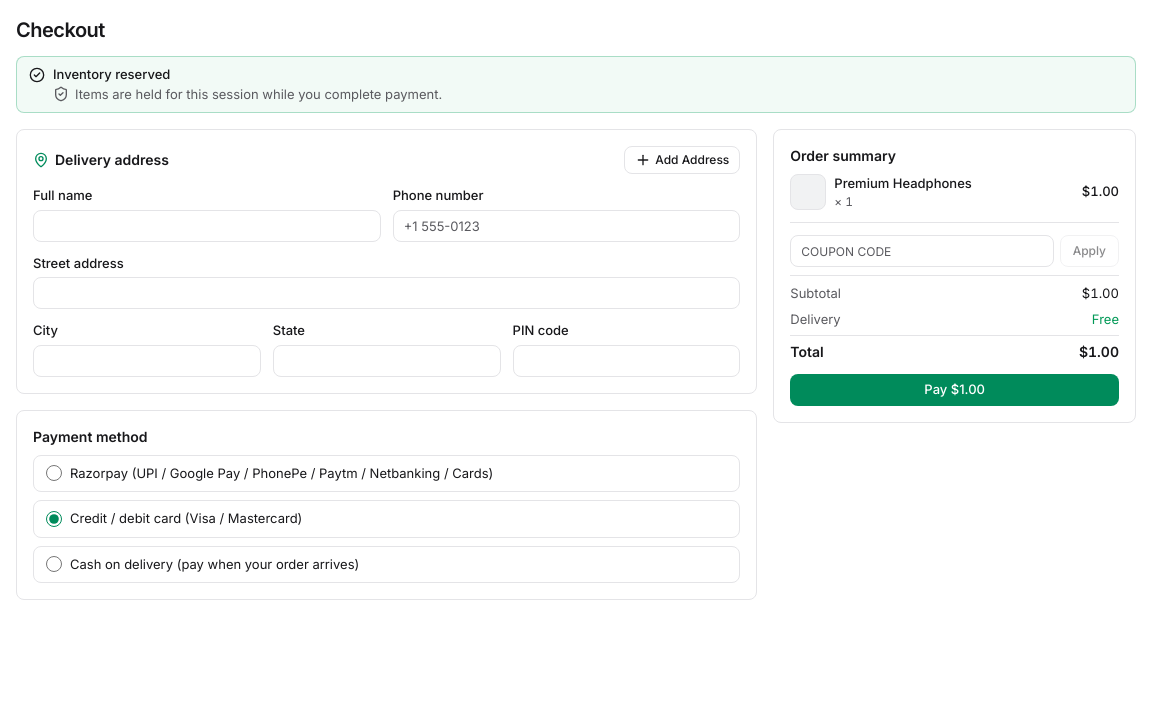
Test: CheckoutPage Browser Payment & 3DS SCA State Handling › completes successful browser payment flow (SUCCEEDED)
The width and height of the screenshot is (1152, 720).
Expected: the text "Premium Headphones" is shown, [834, 175, 972, 191]
# Fill delivery form
In the field labelled "Full name": (207, 226) [33, 210, 381, 242], type "Jane Doe"
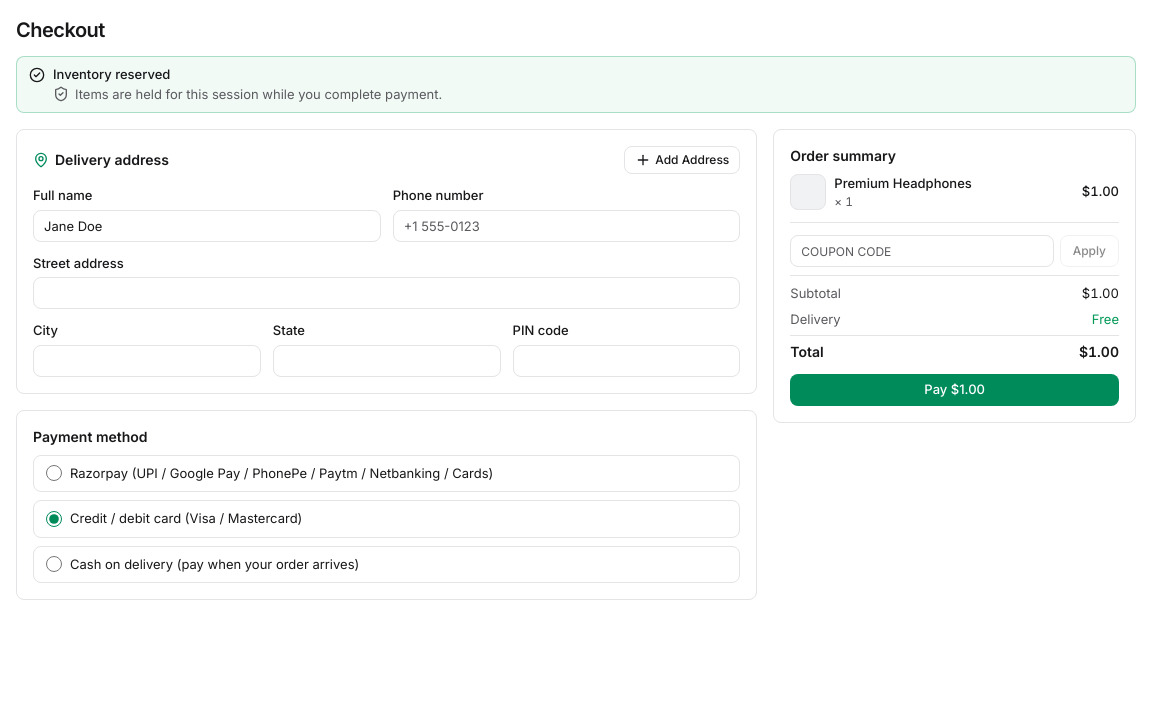
In the field labelled "Street address": (387, 293) [33, 277, 740, 309], type "123 Market St"
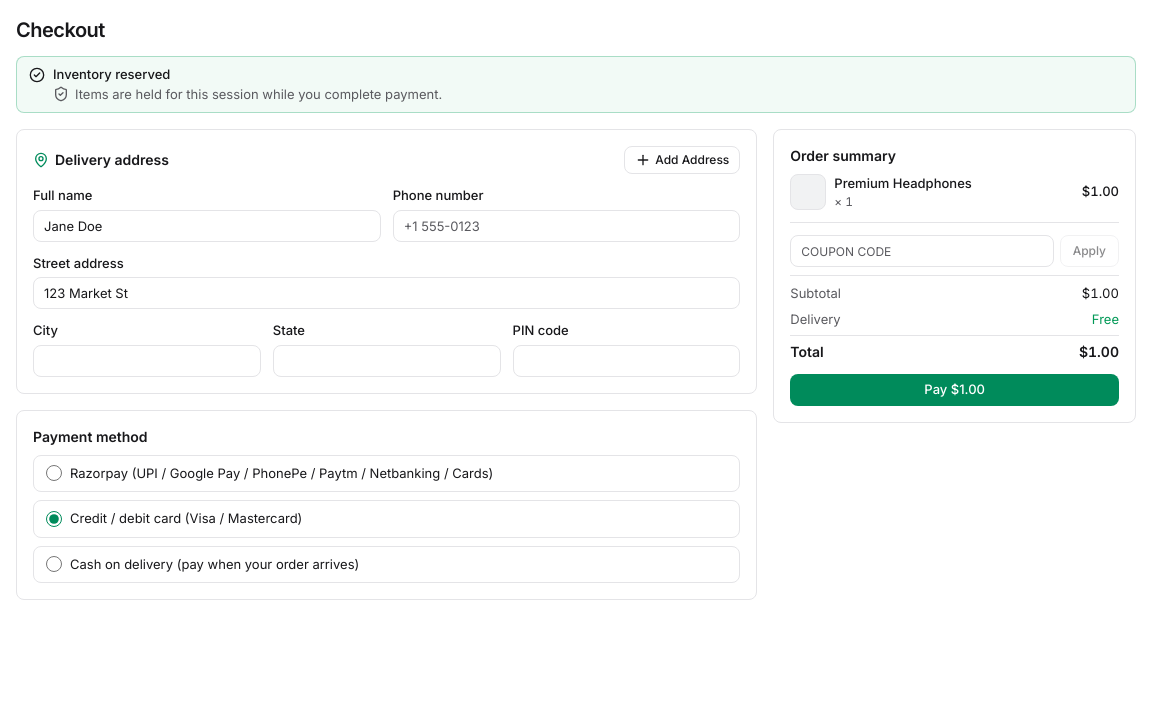
In the field labelled "City": (147, 360) [33, 344, 261, 376], type "San Francisco"
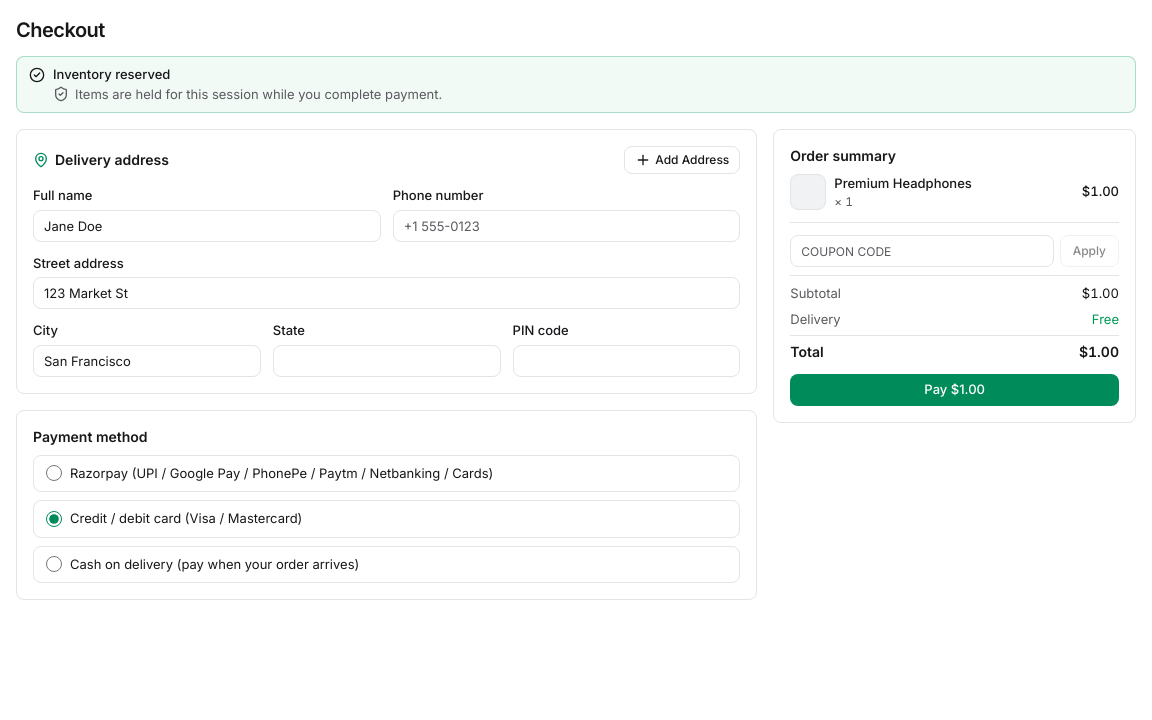
In the field labelled "PIN code": (626, 360) [512, 344, 740, 376], type "94105"
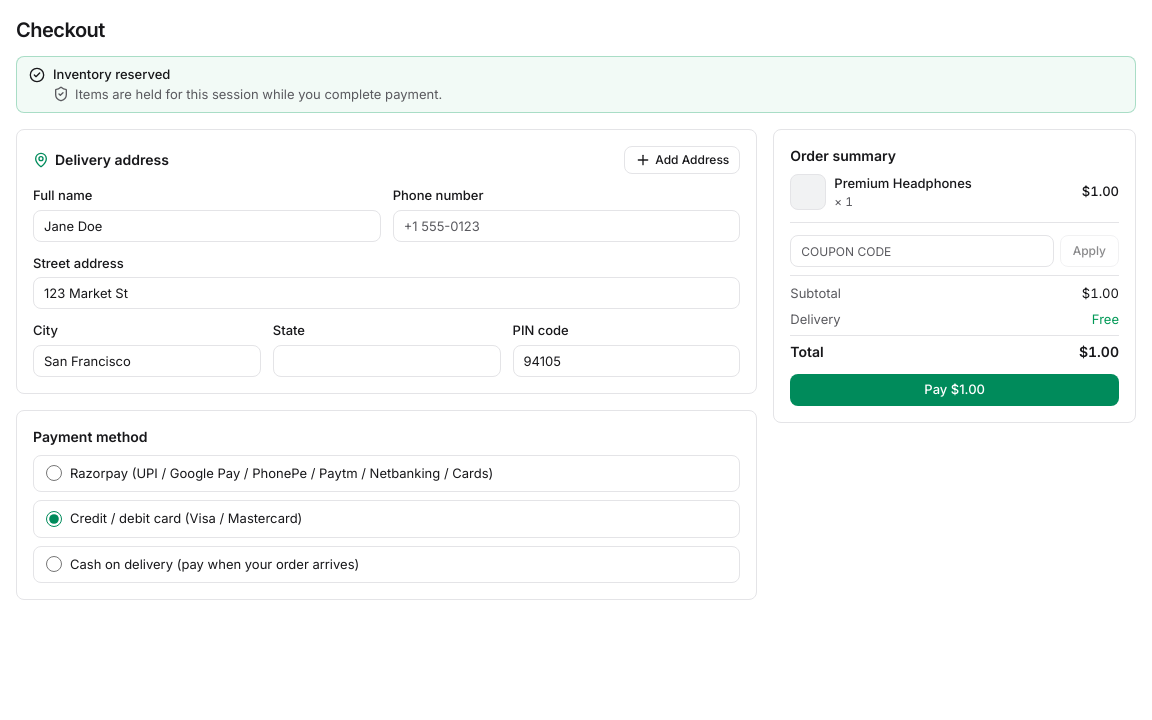
# Submit payment
Submit the form named "Pay"
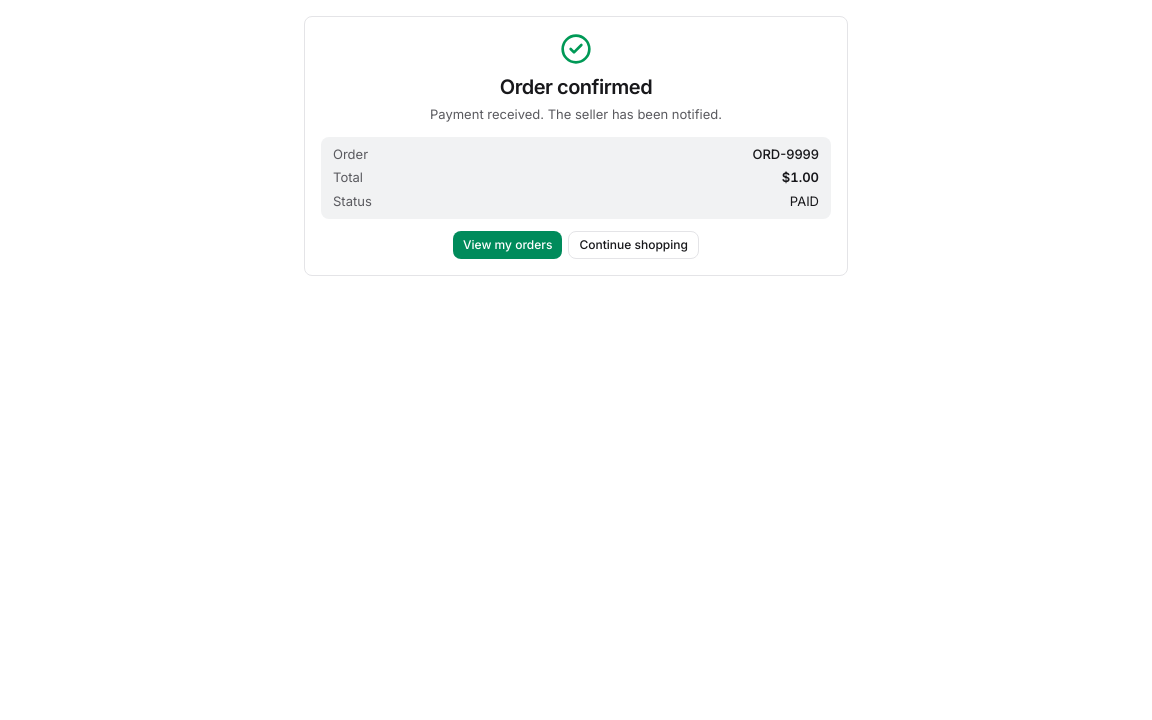
Expected: the heading "Order confirmed" is shown, [500, 75, 652, 99]
Expected: the text "ORD-9999" is shown, [752, 144, 819, 164]
